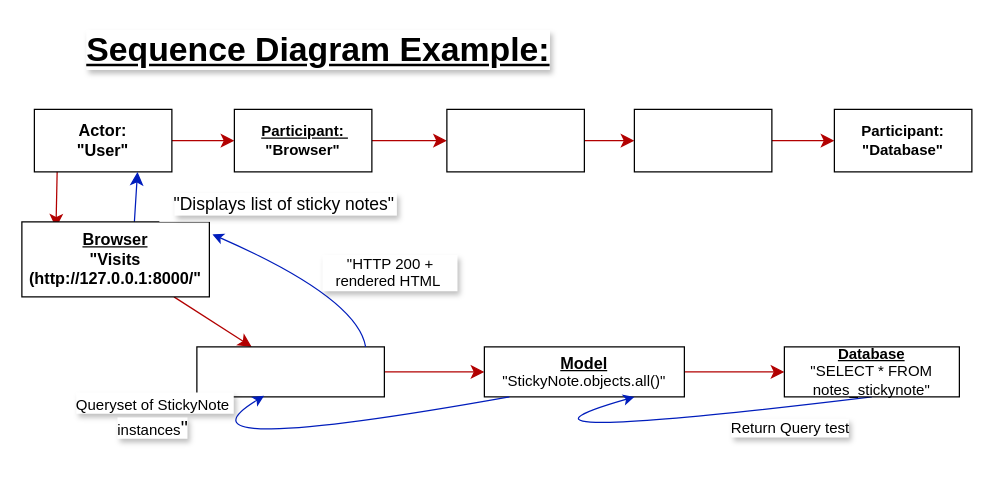
Some shapes in this 994 by 480 pixel diagram are drawn without their labels. The centre of each missing label's shape, as x and y in pixels:
Participant: "Django View (NoteListView)": point 515,140
Participant: "Model (StickyNote)": point 702,140
View "HTTP GET /": point 290,371
